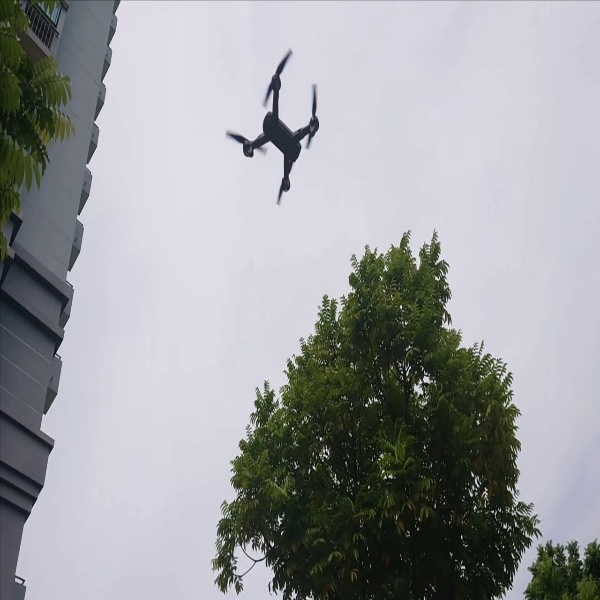drone: (214, 46, 331, 209)
